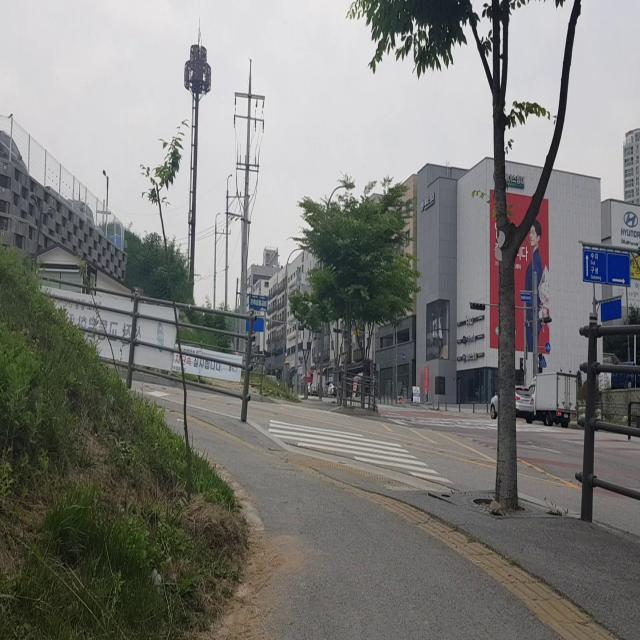횡단보도: (267, 418, 454, 485)
